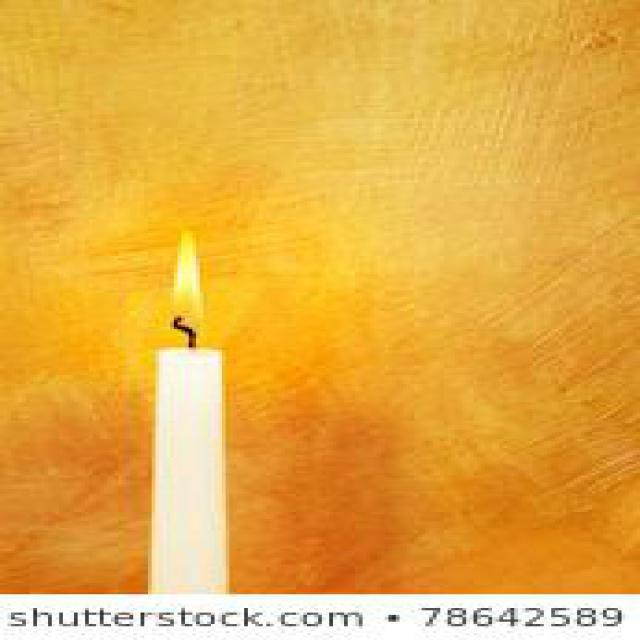Fire: (174, 230, 208, 335)
